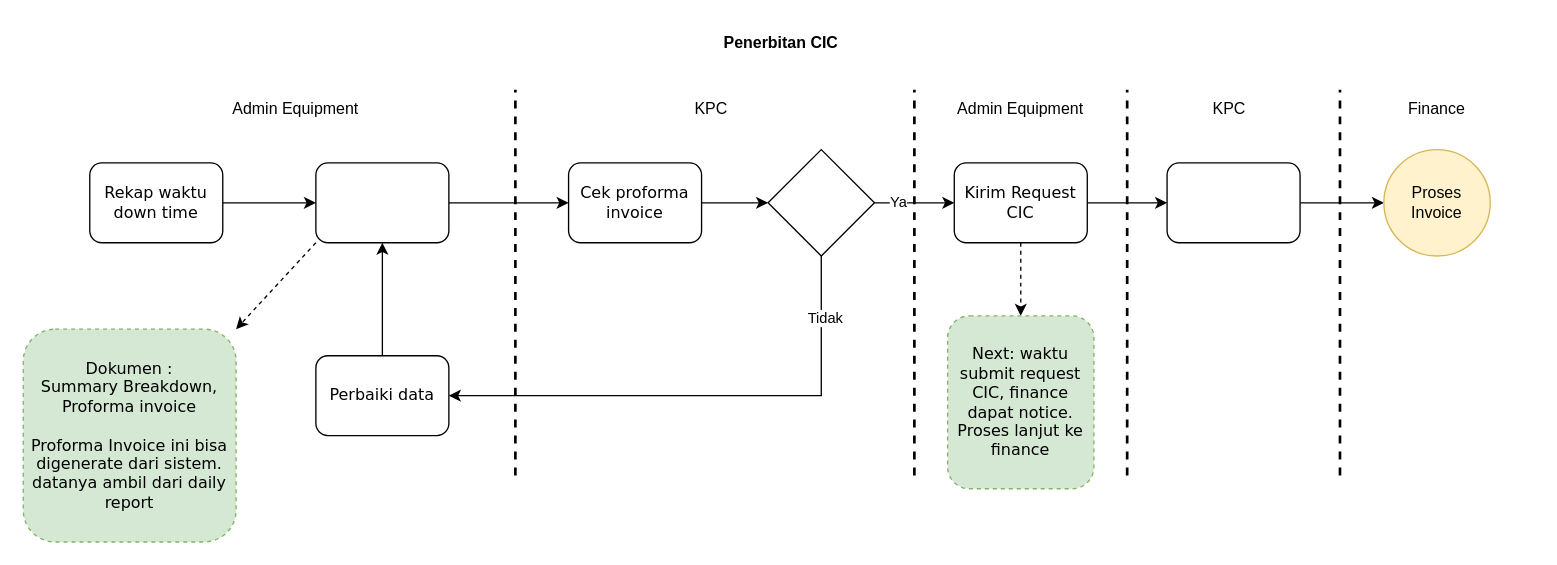
The diagram is 1557 pixels wide and 565 high, and some of its shapes have lost their labels. The shapes that lost their labels are listed below. From the top down, each one's centre as x and y in pixels, then its label:
point 382,202: Kirim proforma invoice via email ke KPC
point 820,202: OK?
point 1233,202: Kirim CIC via Email
